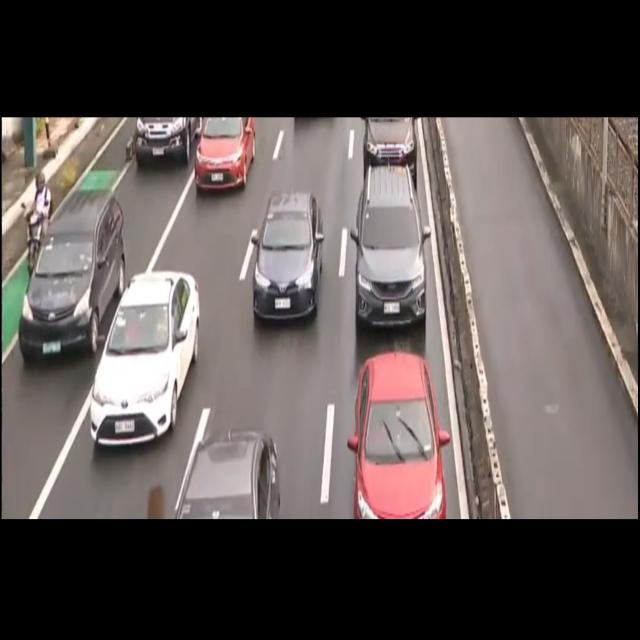Motorcycle: (20, 169, 57, 275)
SUV: (24, 182, 129, 364), (350, 166, 432, 338)
Sedan: (92, 271, 196, 437), (343, 360, 447, 521), (174, 422, 287, 524), (251, 190, 320, 323), (194, 119, 260, 192)
